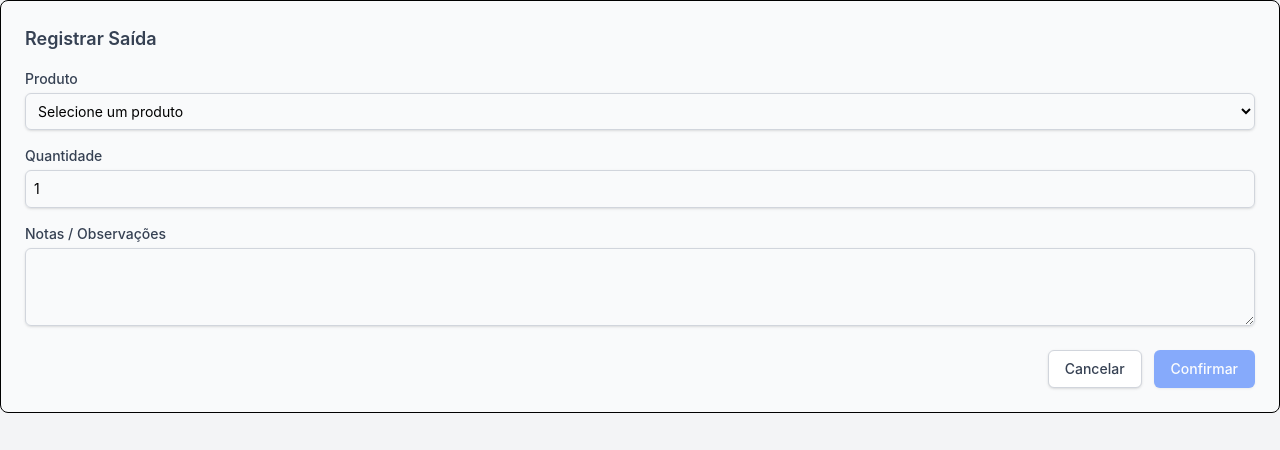
Test: MovementForm.vue › validates maximum quantity for OUT type
// Select product with quantity 10
Select "Product 1 (SKU: SKU1) - Saldo: 10" in the dropdown at [640, 112], box [25,93,1255,130]
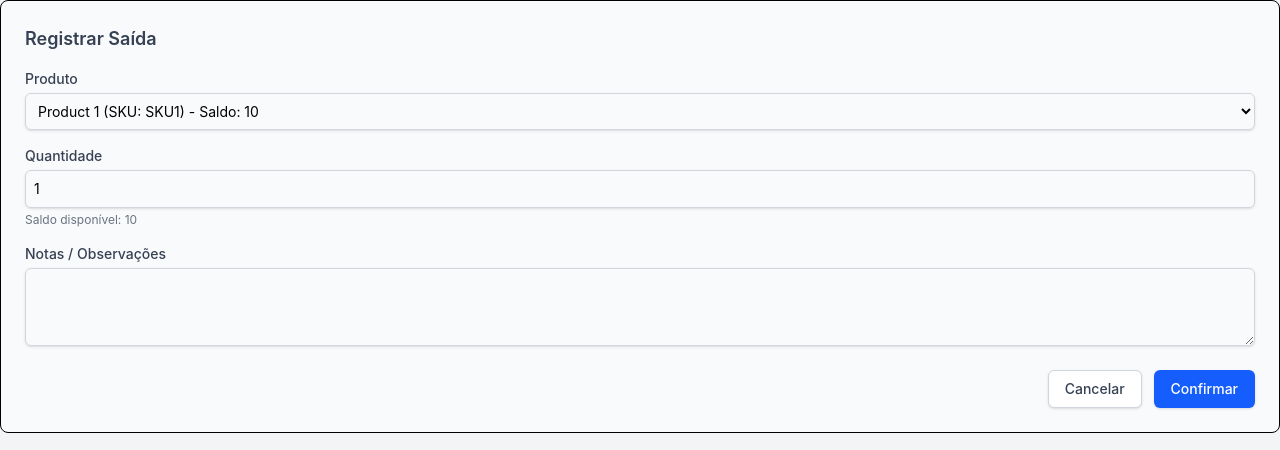
Replace the text in the number field with "11" at [640, 189], box [25,170,1255,208]
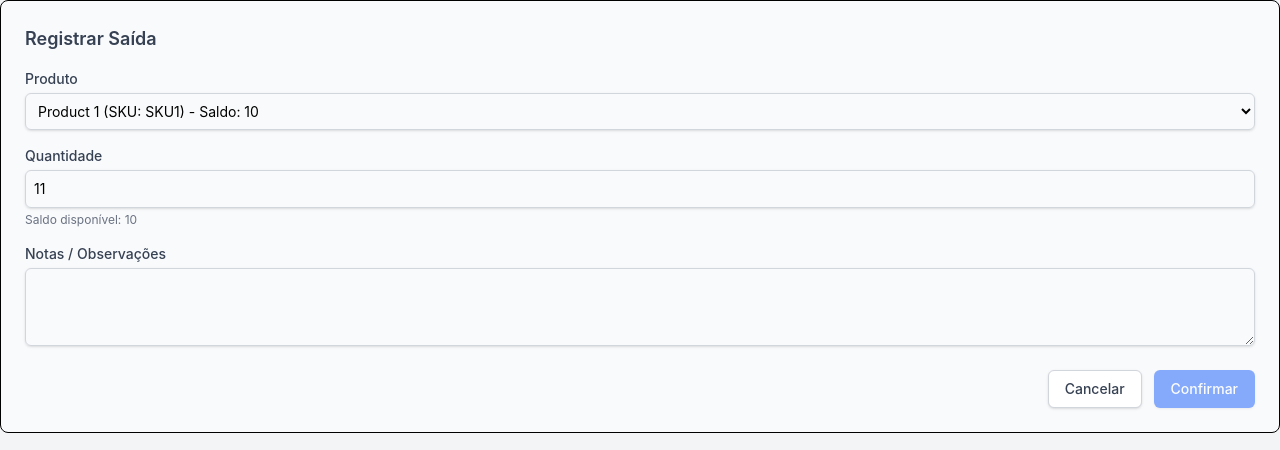
Expected: the submit button is disabled, [1154,370,1255,408]
Replace the text in the number field with "5" at [640, 189], box [25,170,1255,208]
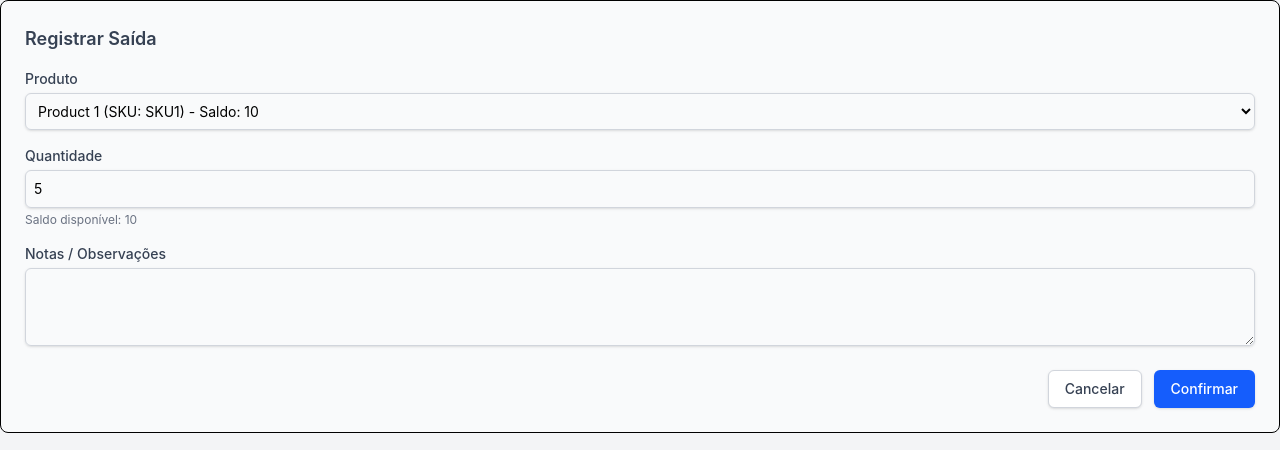
Expected: the submit button is enabled, [1154,370,1255,408]
